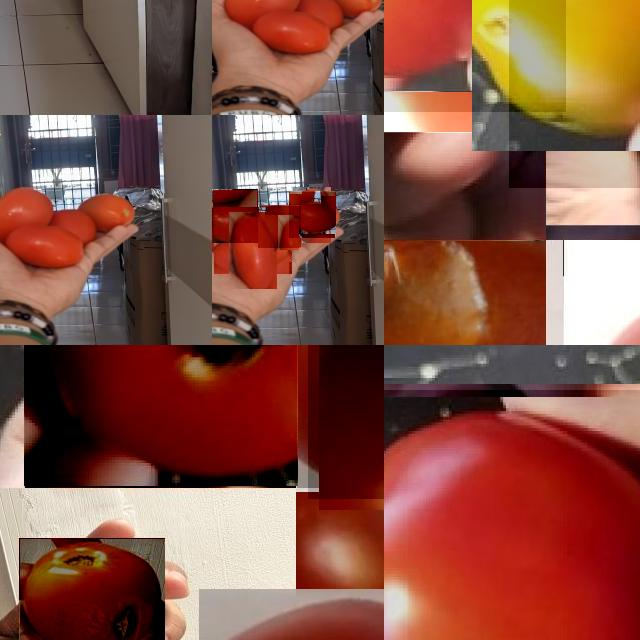Fresh Tomato: (384, 390, 640, 640), (24, 345, 297, 487), (384, 0, 566, 112), (222, 219, 284, 281), (212, 189, 258, 243), (289, 192, 336, 238), (258, 206, 301, 248)
Rotten Tomato: (509, 0, 640, 188), (384, 240, 546, 345), (19, 538, 165, 640)
